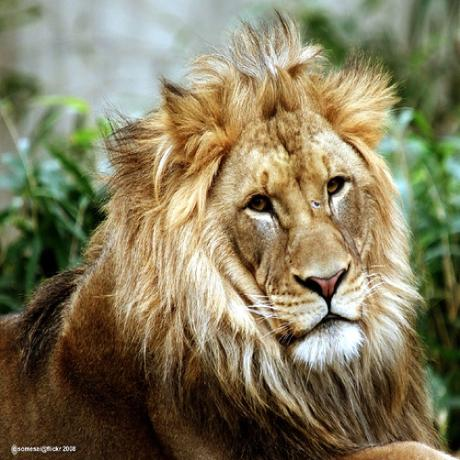Lion: (0, 35, 443, 460)
